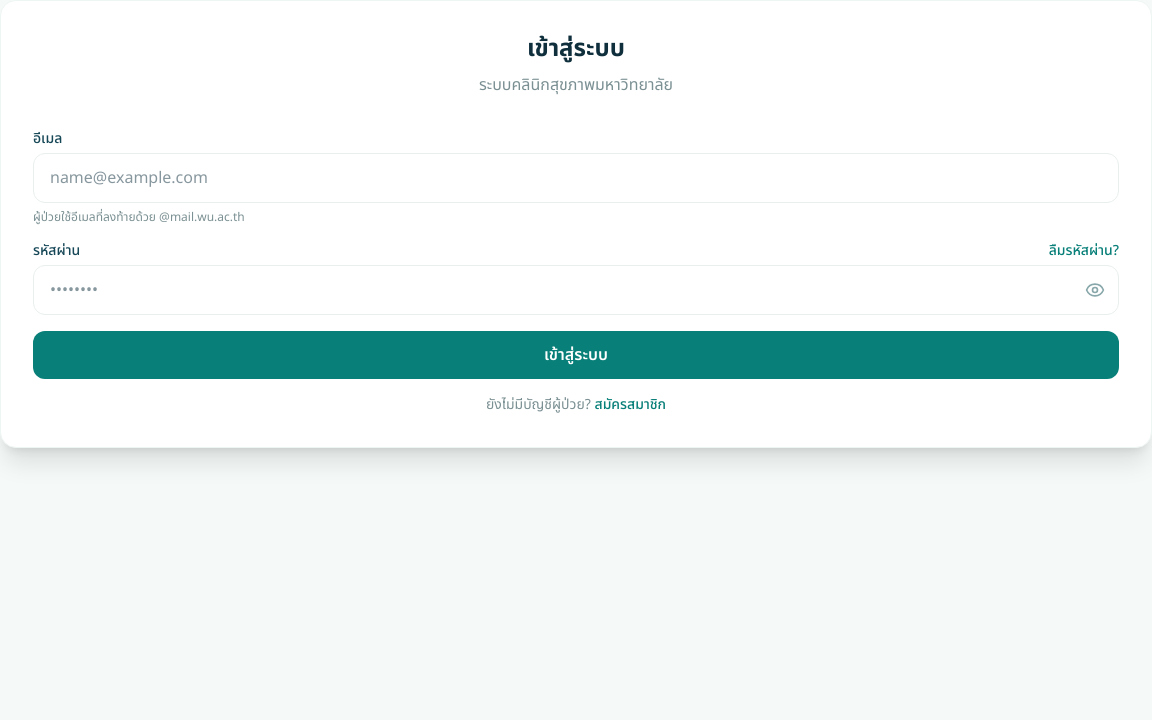
Test: LoginPage › handles sign in error and resets button
Type "wrong@mail.wu.ac.th" into the field labelled "อีเมล" at (576, 178), box [33,153,1119,203]
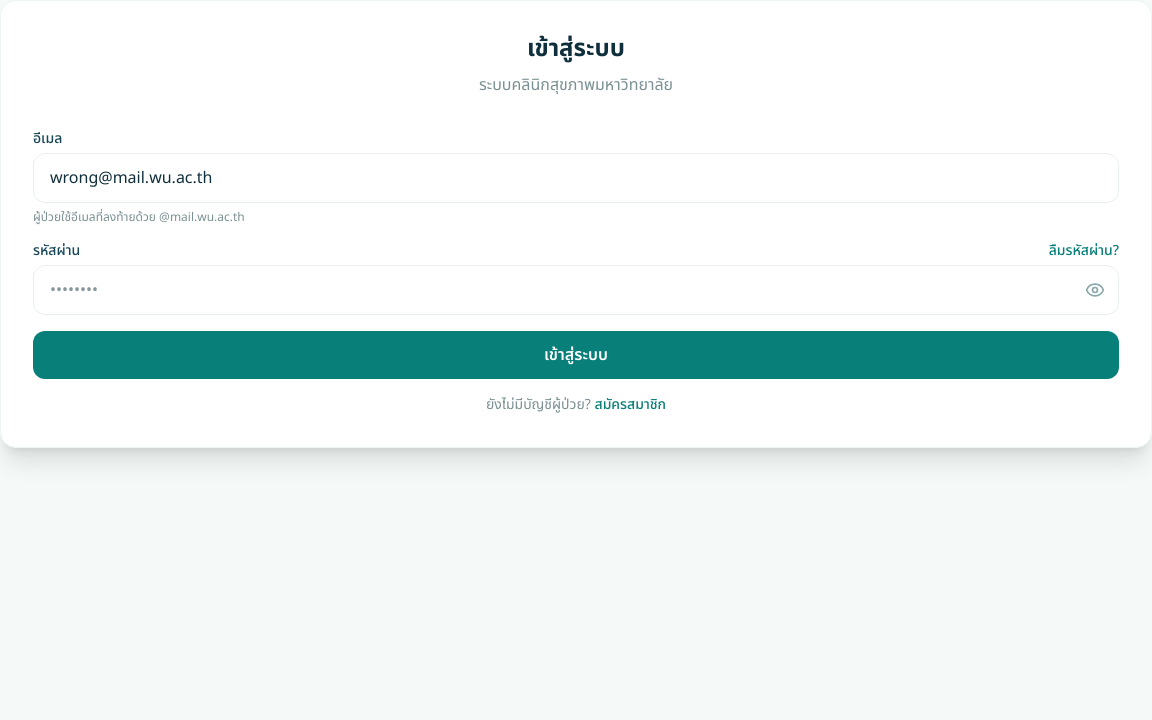
Type "wrongpass" into the password field with placeholder "••••••••" at (576, 290), box [33,265,1119,315]
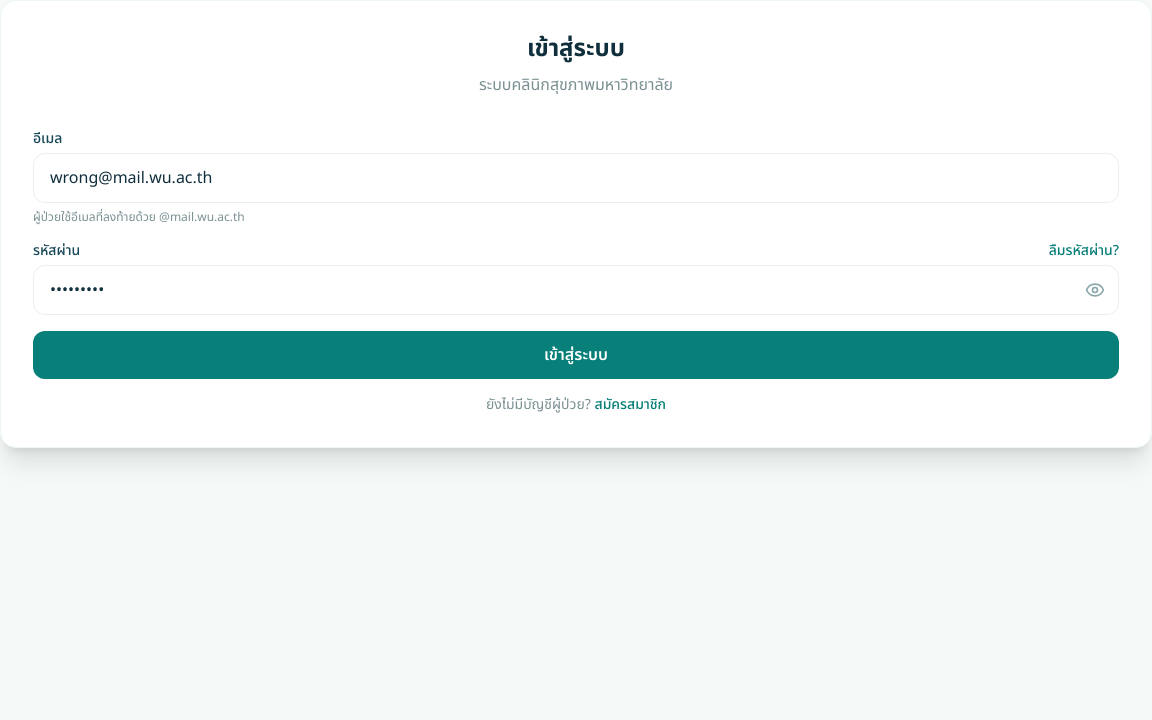
Click the button "เข้าสู่ระบบ" at (576, 355), box [33,331,1119,379]
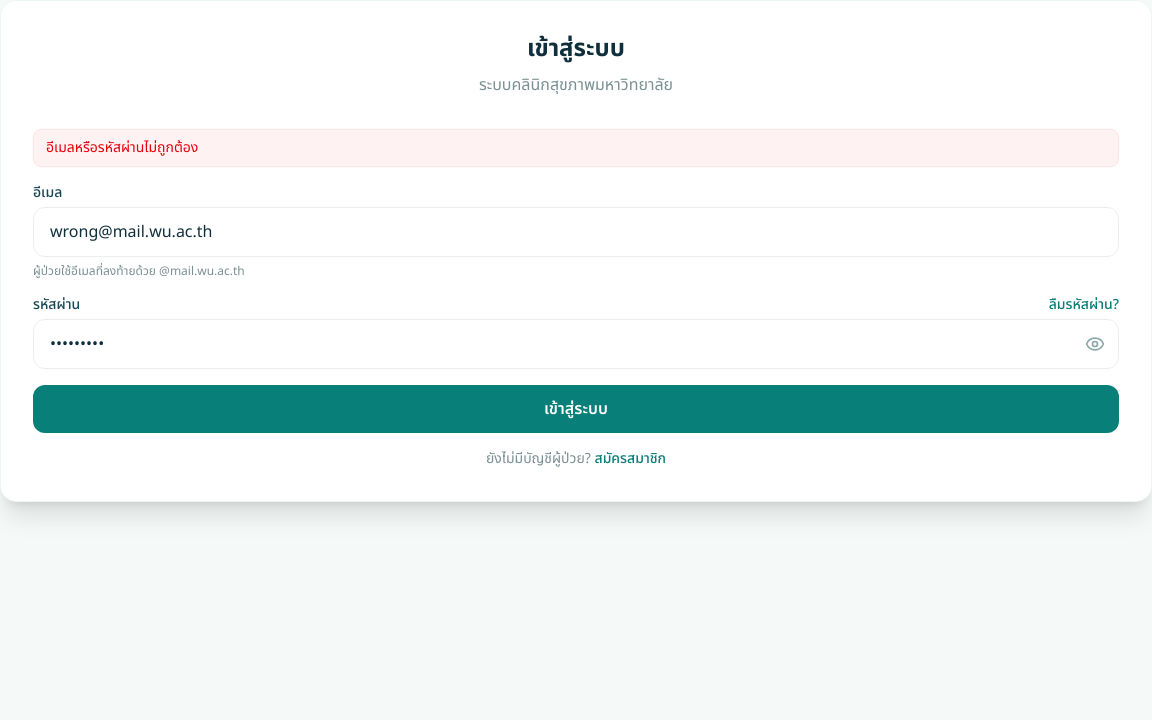
Expected: the button "เข้าสู่ระบบ" is enabled, [33,385,1119,433]
Expected: the text "อีเมลหรือรหัสผ่านไม่ถูกต้อง" is shown, [33,129,1119,167]
Click the button named "แสดงรหัสผ่าน" at (1095, 344), box [1071,319,1119,369]
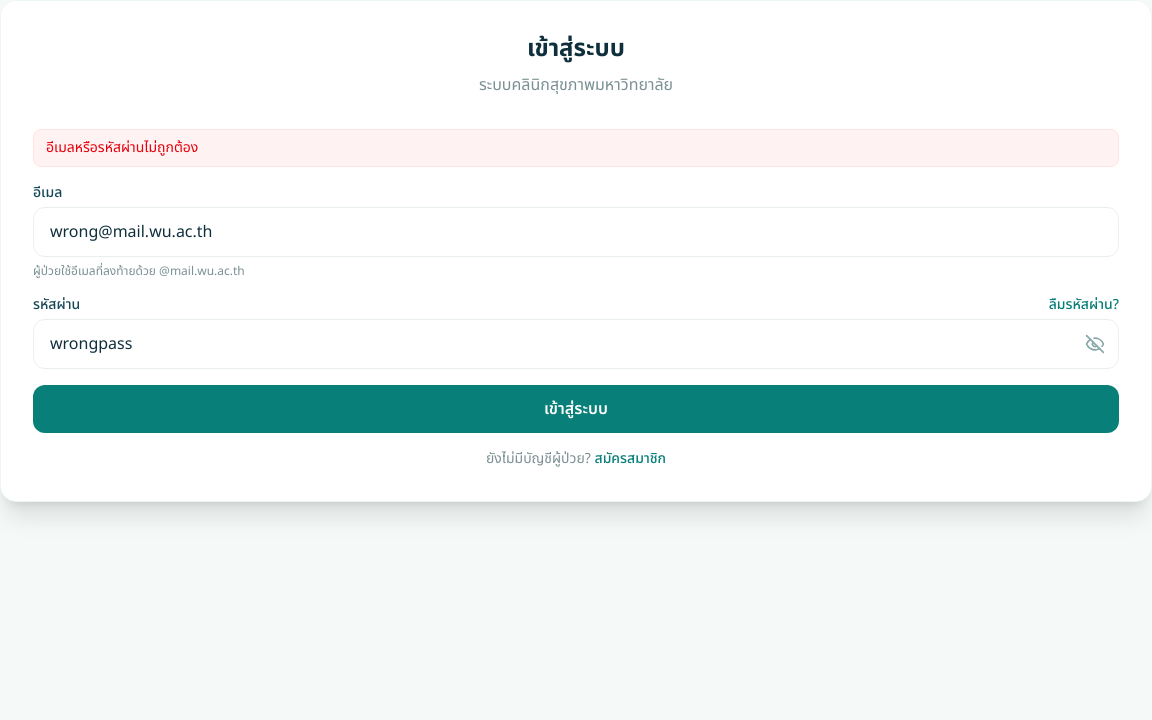
Expected: the field with placeholder "••••••••" shows its text, [33,319,1119,369]
Expected: the button named "ซ่อนรหัสผ่าน" is shown, [1071,319,1119,369]
